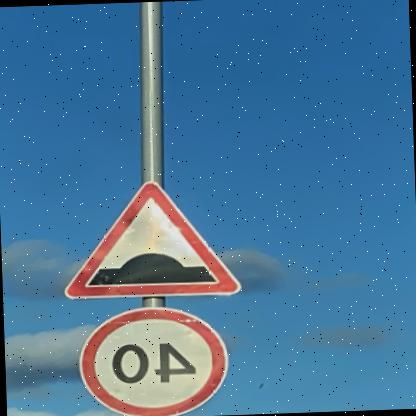speedlimit: (78, 305, 233, 415)
